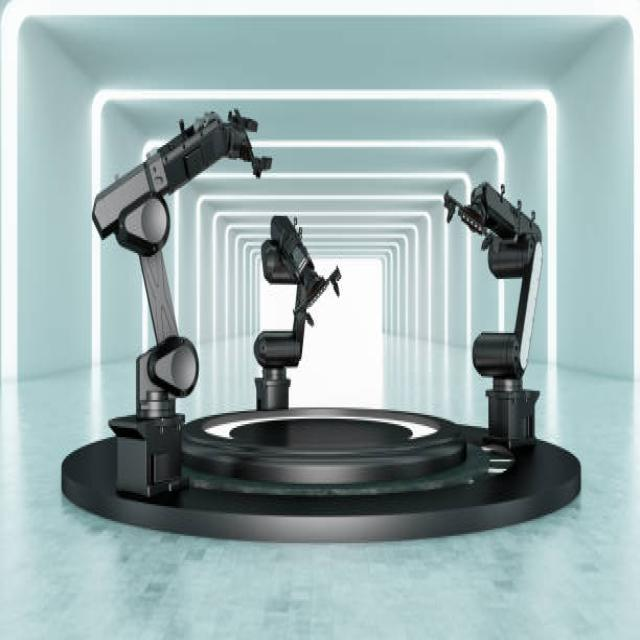Robotic-arm: (84, 98, 273, 493), (439, 168, 543, 448), (252, 208, 345, 409)
